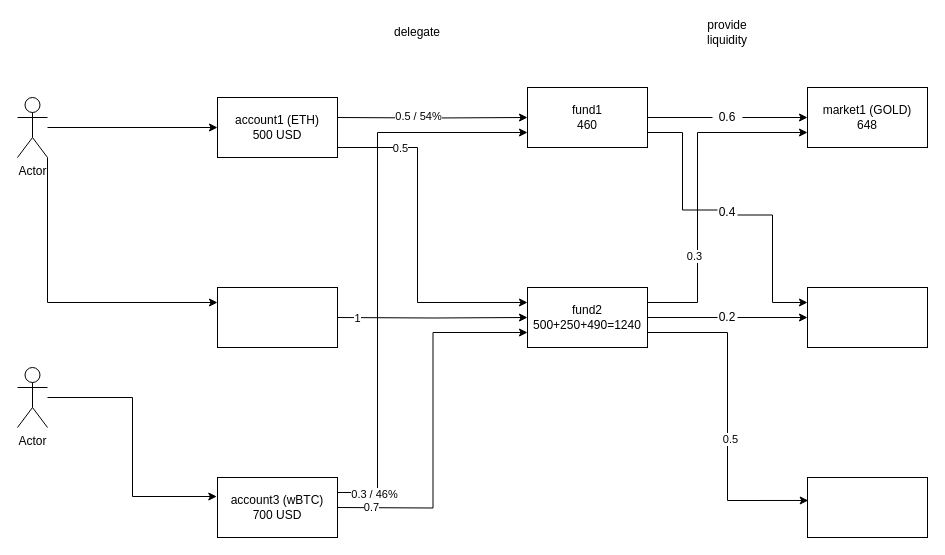
Image size: 945x555. Some labels were removed from this diagram. Each missing label, with the box of its shape:
account2 (ETH) 500 USD: (216, 286, 338, 348)
market2 (AVAX) 432: (806, 286, 928, 348)
market3 (DEFI) 620: (806, 476, 928, 538)
